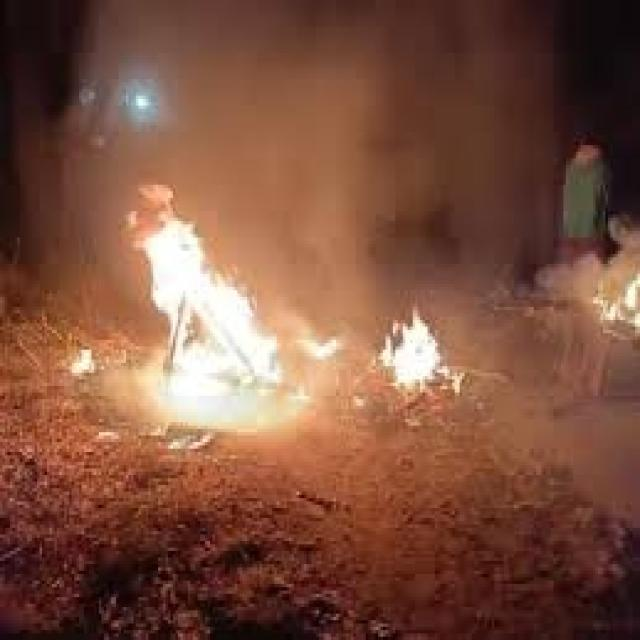fire: (124, 181, 281, 403), (379, 305, 442, 392), (595, 270, 640, 336)
